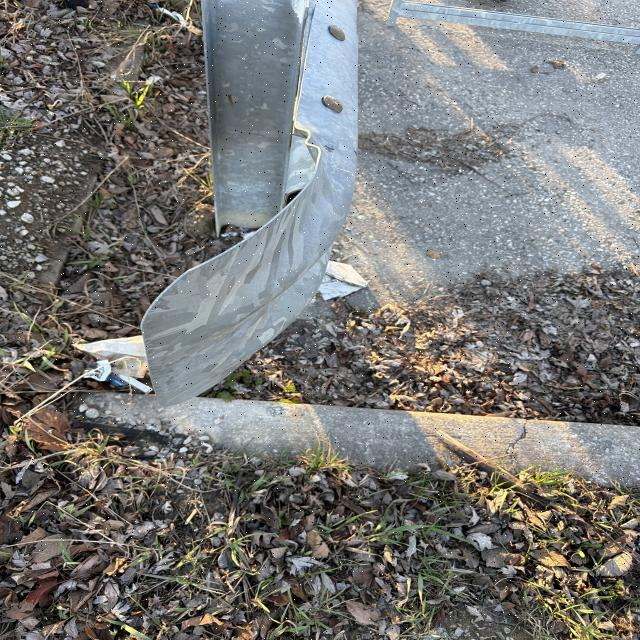Guard rail: (150, 2, 370, 382)
